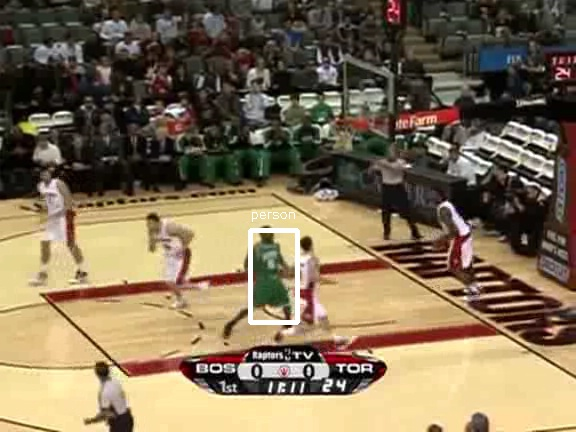person: (255, 233, 289, 314), (254, 233, 288, 314), (256, 233, 290, 314), (255, 232, 289, 313), (255, 234, 289, 315)
target_negative: (143, 227, 483, 311), (343, 104, 493, 258), (551, 131, 568, 298), (91, 411, 204, 415)
